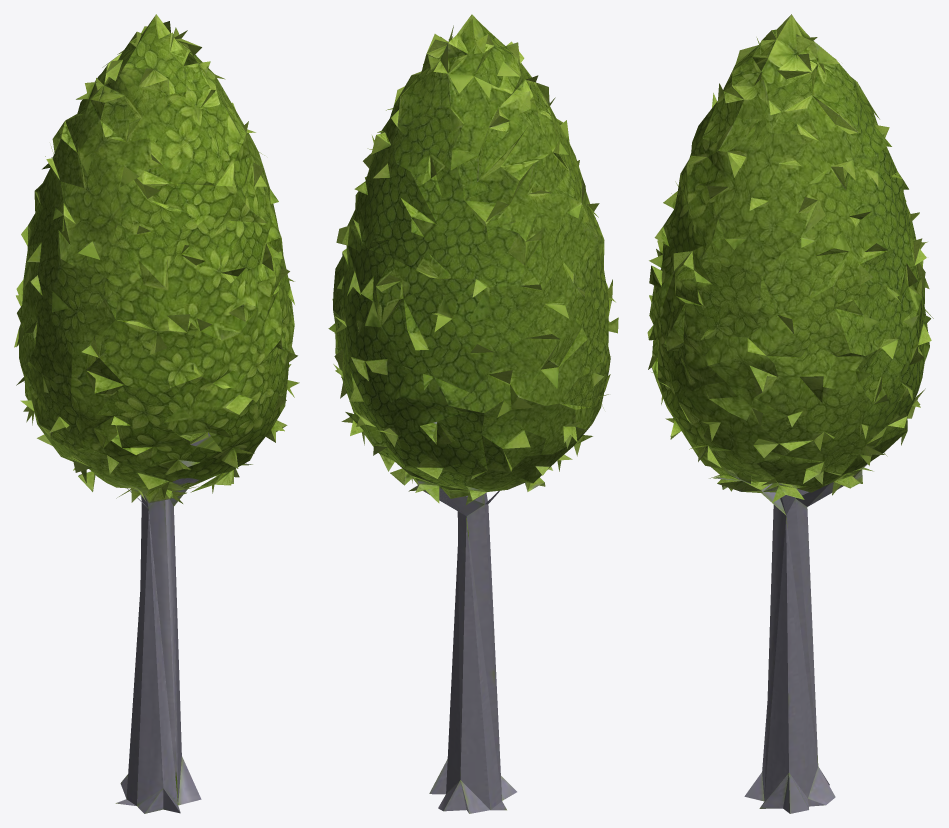
The model's file is tree_beech.glb.
The picture shows the model from 3 angles, left to right: view 1: azimuth 30°, elevation 25°; view 2: azimuth 150°, elevation 25°; view 3: azimuth 270°, elevation 25°; orthographic projection.
Parts seen in each view (by area): view 1: Mesh_0; view 2: Mesh_0; view 3: Mesh_0.
Boxes of the visible parts, left/top/right/bottom form: Mesh_0: left=14, top=14, right=299, bottom=813; Mesh_0: left=328, top=14, right=618, bottom=813; Mesh_0: left=647, top=14, right=933, bottom=813.
Bounding box in the file's own units: 0.6255 × 1.9 × 0.6308.
Materials: 1 (1 with a texture image).
